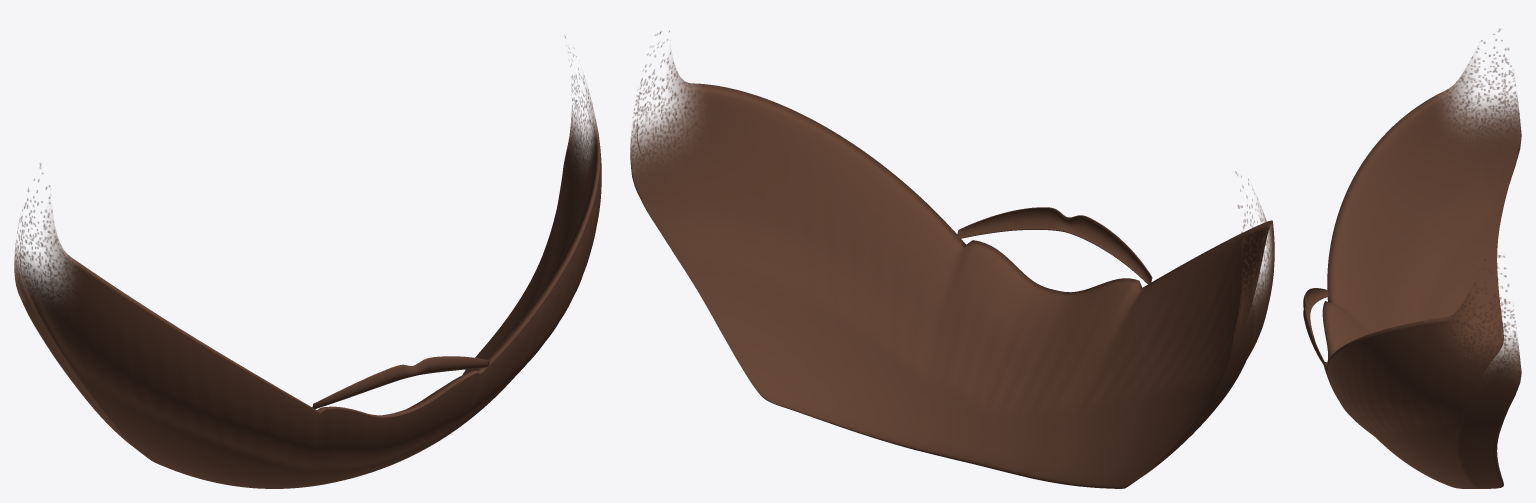
Rendered from Masculine-groom-full.glb.
3 views of the same model, side by side, from view 1: azimuth 30°, elevation 25°; view 2: azimuth 150°, elevation 25°; view 3: azimuth 270°, elevation 25° (orthographic). The views are drawn at different scales.
Parts seen in each view (by area): view 1: Groom / full shaped187, Groom / shared mustache185; view 2: Groom / full shaped187, Groom / shared mustache185; view 3: Groom / full shaped187, Groom / shared mustache185.
Part boxes in pixels (<box>): Groom / full shaped187: <box>14,36,601,488</box>; Groom / shared mustache185: <box>312,356,489,408</box>; Groom / full shaped187: <box>630,31,1274,488</box>; Groom / shared mustache185: <box>957,207,1152,284</box>; Groom / full shaped187: <box>1322,29,1521,488</box>; Groom / shared mustache185: <box>1303,288,1328,369</box>.
Size of the model in its own units: 0.9541 by 0.6043 by 0.3646.
Materials: 2 (1 with a texture image).
